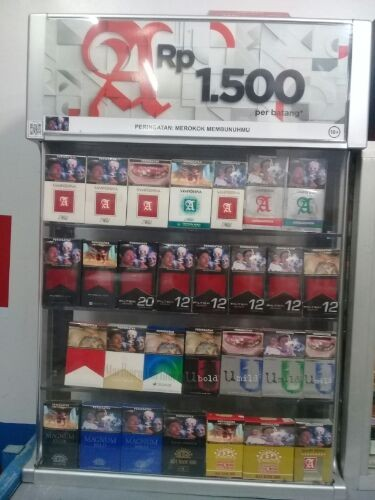A Mild: (87, 156, 127, 226), (129, 157, 167, 227), (45, 155, 84, 221)
U Mild: (263, 331, 303, 396), (224, 330, 261, 394), (303, 331, 335, 396)
